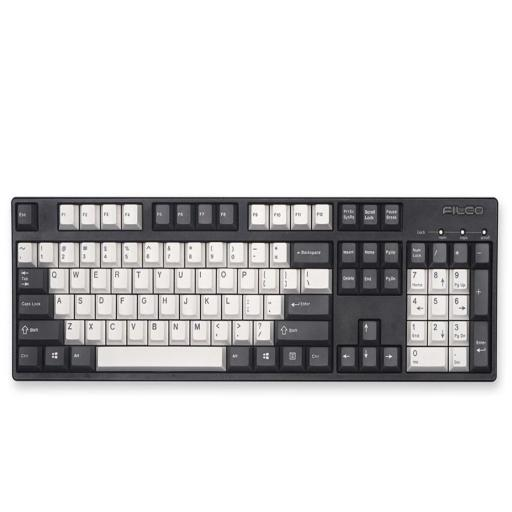KEYBOARD-2: (9, 196, 501, 382)
